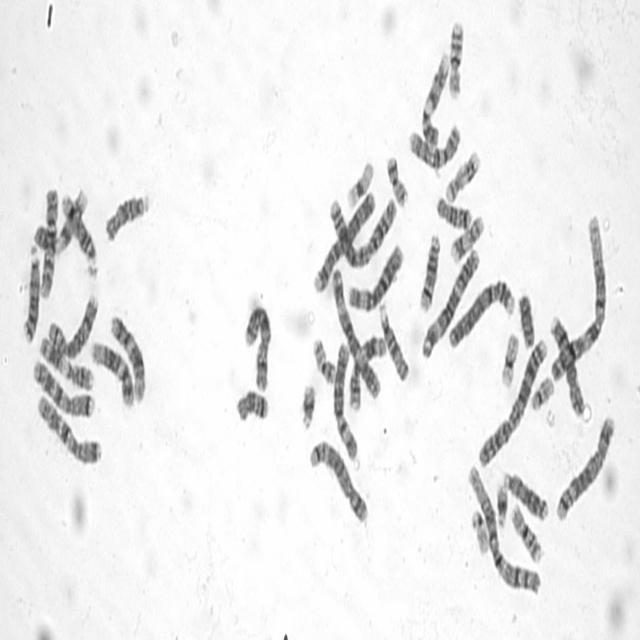A1: (464, 456, 543, 599), (547, 204, 608, 386)
A2: (474, 331, 549, 469), (326, 188, 398, 269)
A3: (419, 241, 481, 360), (328, 262, 380, 401)
B4: (309, 181, 377, 296), (445, 272, 515, 351)
B5: (553, 408, 616, 524), (305, 432, 369, 526)
C10: (405, 118, 462, 172), (37, 181, 59, 300)
C11: (345, 327, 388, 412), (36, 330, 94, 392)
C12: (107, 307, 147, 404), (88, 334, 135, 409)
C6: (345, 237, 404, 312), (330, 336, 359, 462)
C7: (34, 389, 103, 467), (29, 354, 95, 419)
C8: (546, 306, 586, 419), (44, 287, 100, 360)
C9: (31, 182, 88, 254), (418, 44, 450, 149)
D13: (499, 464, 548, 523), (19, 239, 41, 344)
D14: (58, 186, 98, 275), (416, 226, 442, 314)
D15: (375, 296, 410, 384), (101, 186, 151, 244)
E16: (508, 498, 544, 566), (445, 15, 465, 100)
E17: (442, 143, 481, 205), (446, 208, 485, 265)
E18: (432, 189, 472, 232), (232, 384, 269, 425)
F19: (342, 154, 375, 210), (497, 326, 520, 391)
F20: (383, 148, 409, 209), (309, 330, 336, 386)
G21: (296, 376, 316, 431), (492, 478, 508, 529)
G22: (467, 502, 490, 558), (528, 369, 555, 413)
X: (241, 298, 272, 394)
Y: (515, 286, 536, 350)
